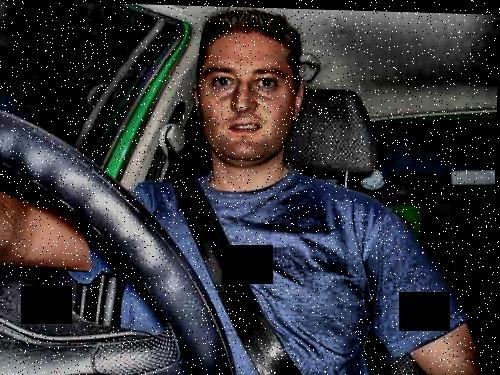seatbelt: (149, 127, 311, 361)
